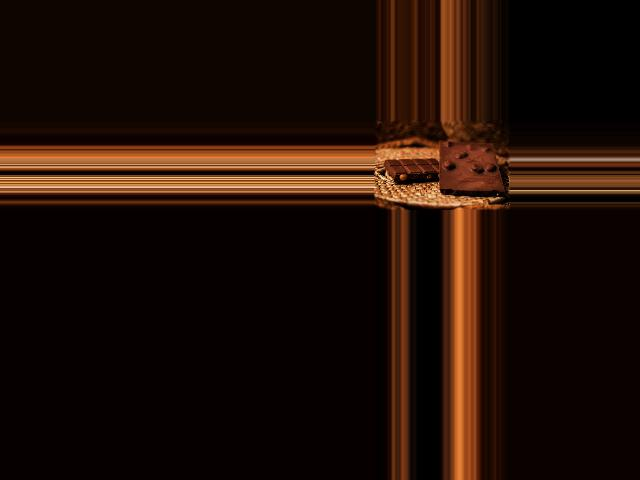chocolate: (435, 139, 505, 196)
